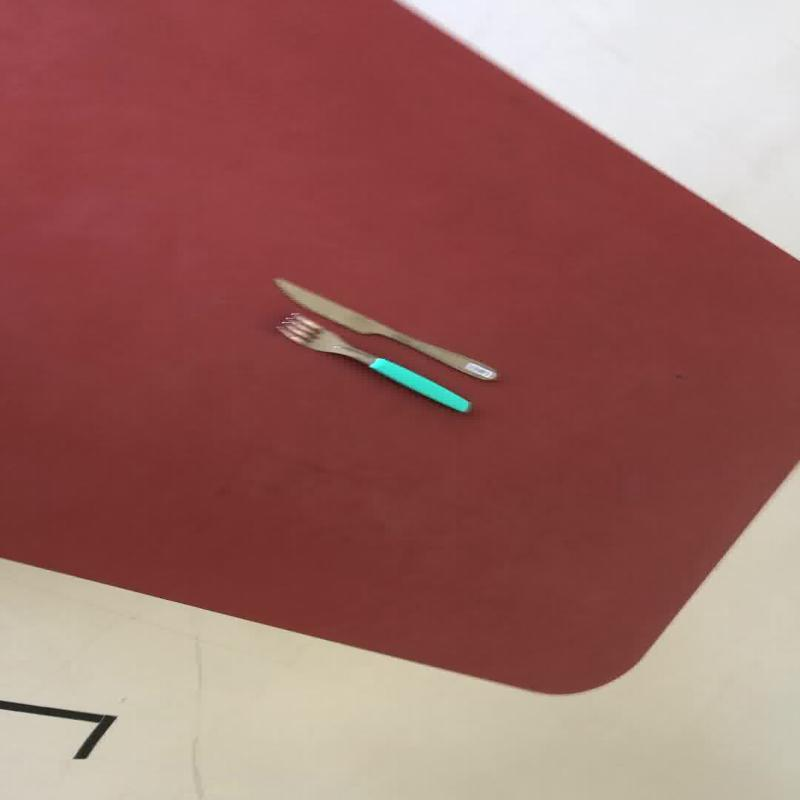fork: (272, 312, 472, 414)
knife: (270, 276, 497, 382)
